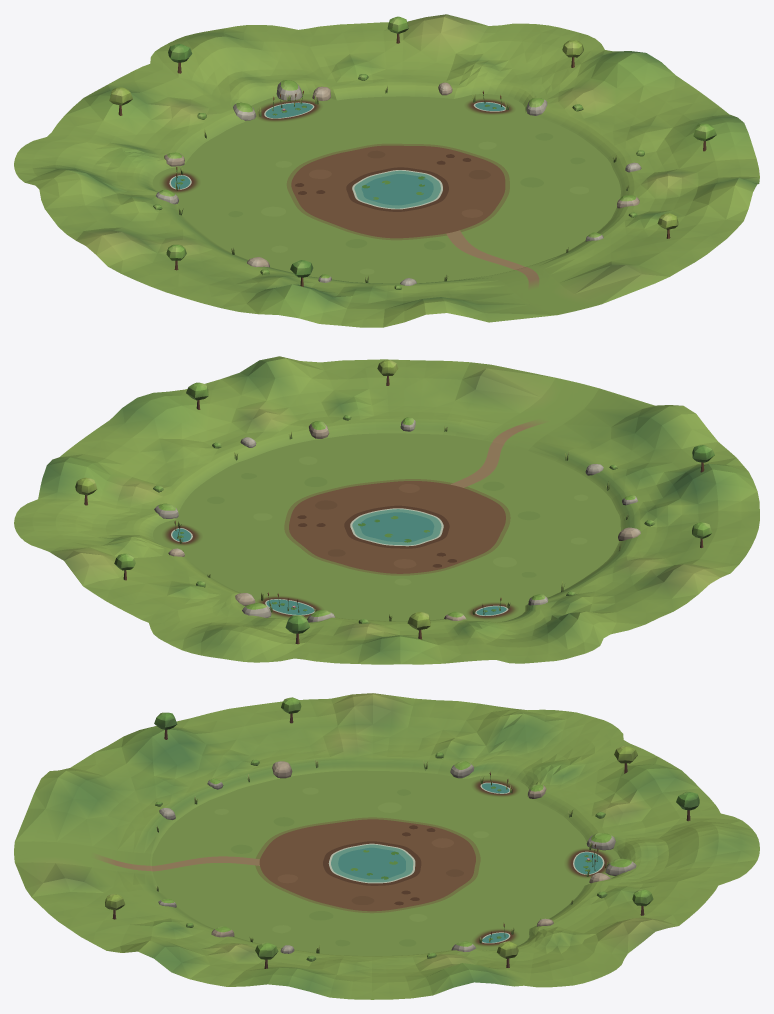
File: Hippo_Arena.glb
3 renders of one model, top to bottom at view 1: azimuth 30°, elevation 25°; view 2: azimuth 150°, elevation 25°; view 3: azimuth 270°, elevation 25°, orthographic.
Visible parts, largest first — view 1: Banks, Floor, Props, Pond; view 2: Banks, Floor, Props, Pond; view 3: Banks, Floor, Props, Pond.
Boxes of the visible parts, box(x1,y1,x2,y2) form: Banks: box(14, 14, 759, 327); Floor: box(152, 94, 620, 283); Props: box(109, 16, 716, 289); Pond: box(354, 170, 440, 208); Banks: box(14, 356, 759, 664); Floor: box(153, 433, 620, 622); Props: box(75, 360, 714, 644); Pond: box(352, 509, 441, 545); Banks: box(14, 693, 759, 999); Floor: box(152, 770, 620, 955); Props: box(105, 697, 699, 968); Pond: box(331, 844, 413, 882).
Size of the model in its own units: 218 by 19.71 by 228.
